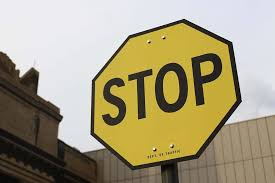Stop: (72, 19, 250, 157)
